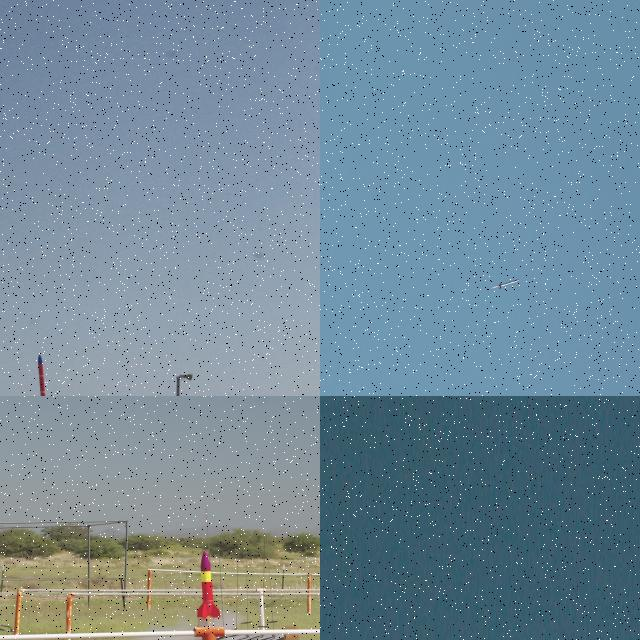Rocket: (195, 550, 222, 620), (36, 354, 51, 396), (499, 279, 519, 290)
